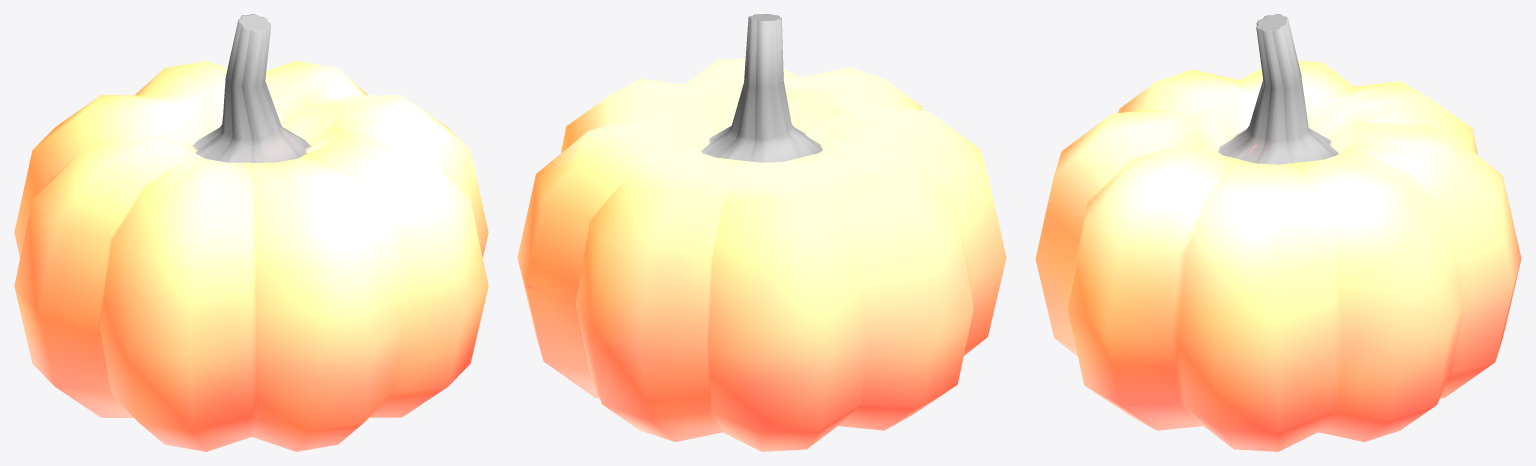
File: pumpkin.glb
3 views of the same model, side by side, from view 1: azimuth 30°, elevation 25°; view 2: azimuth 150°, elevation 25°; view 3: azimuth 270°, elevation 25° (orthographic).
Visible parts, largest first — view 1: pumpkin.001; view 2: pumpkin.001; view 3: pumpkin.001.
Part boxes in pixels (x1,y1,x2,y2): pumpkin.001: [14, 14, 488, 451]; pumpkin.001: [517, 14, 1006, 451]; pumpkin.001: [1035, 14, 1521, 451].
Size of the model in its own units: 175 by 144 by 175.
